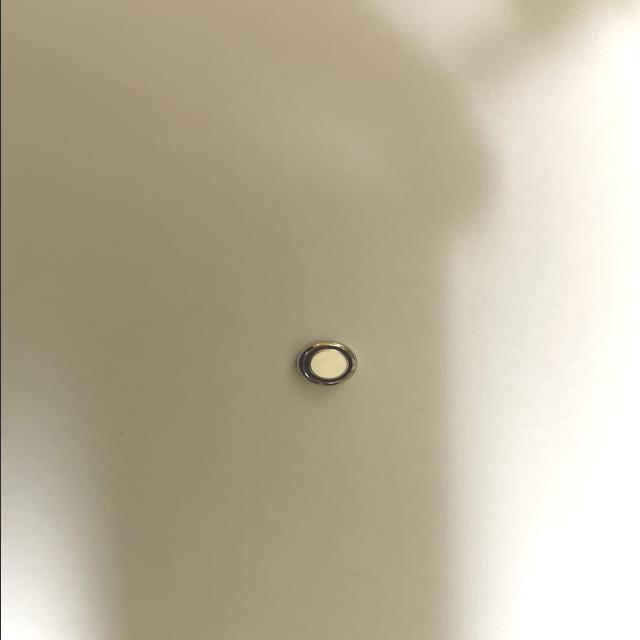COIN: (295, 340, 359, 387)
